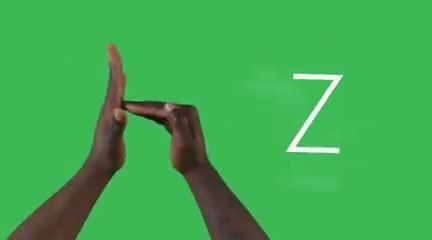Z: (82, 35, 228, 194)
